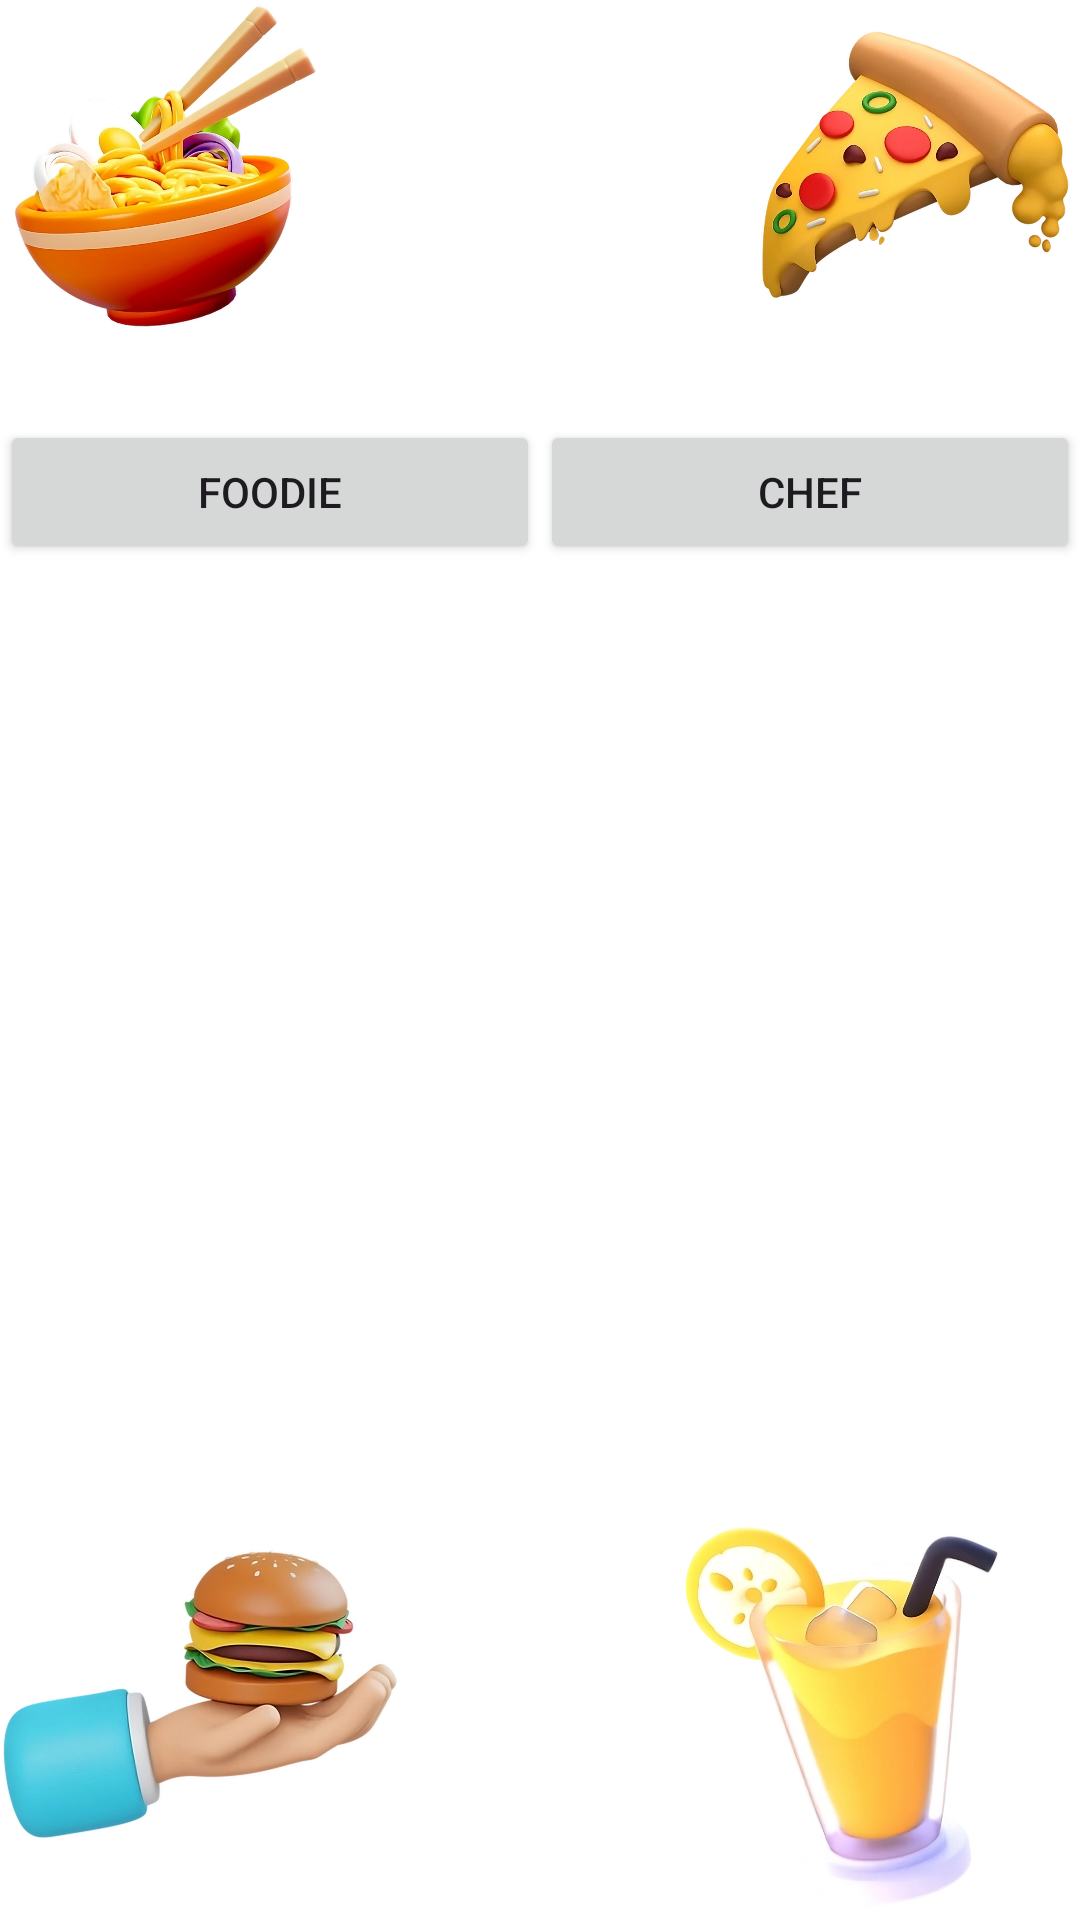

Where to tap for icons on this 1080px×1920px app screen, as point (x, y):
noodles: point (165, 166)
pizzaslice: point (915, 165)
